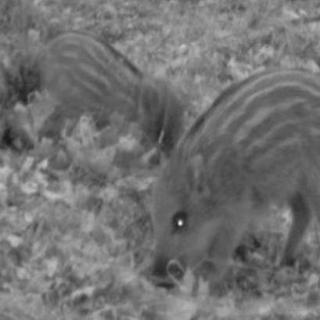Pig: (154, 49, 320, 278)
